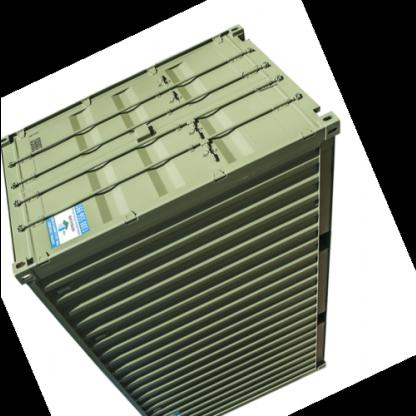Damage: (222, 165, 266, 198)
